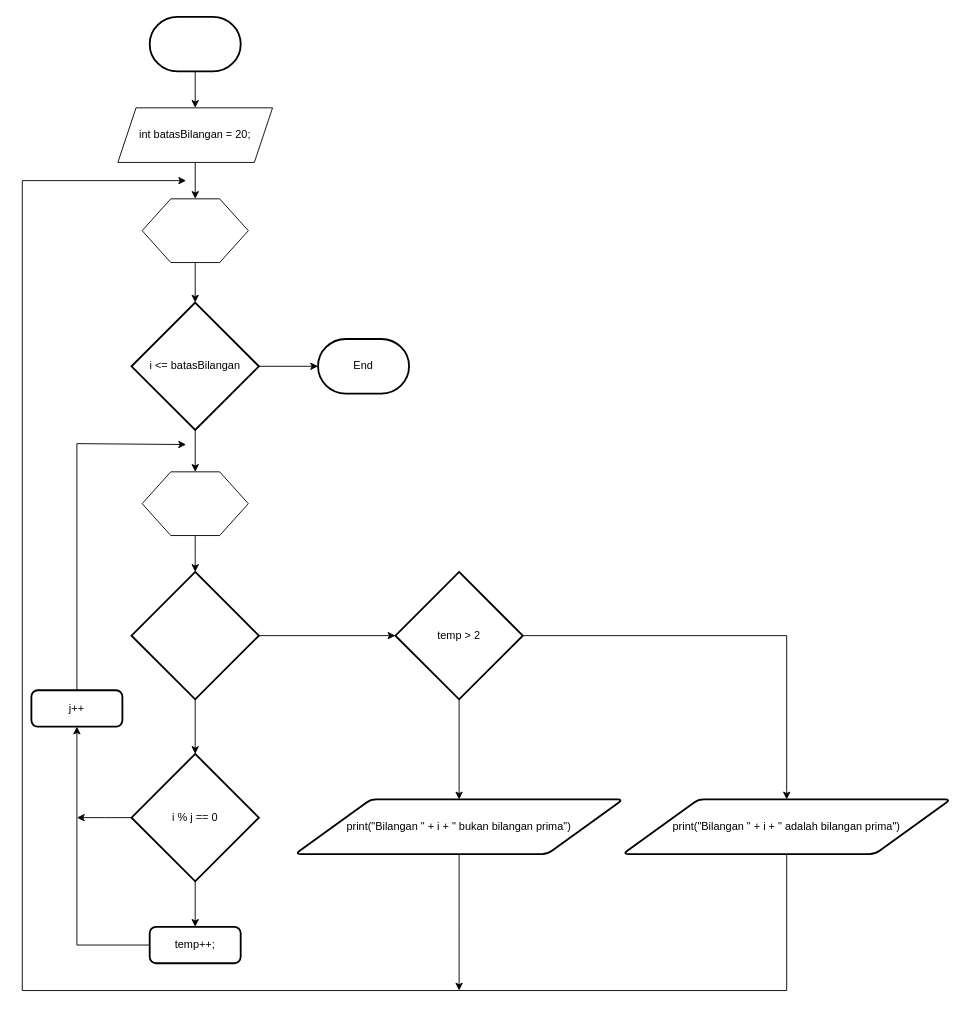
This 967x1014 diagram has some shape labels left out. Here are the shapes that lost their labels. From the top down, the centre of each, then its label:
At point 194,43: "Start".
At point 194,230: "int i = 0;".
At point 194,503: "int temp = 0; int j = 1;".
At point 194,635: "j <= i".
